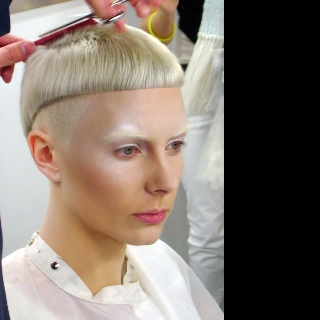without_mask: (20, 23, 189, 245)
